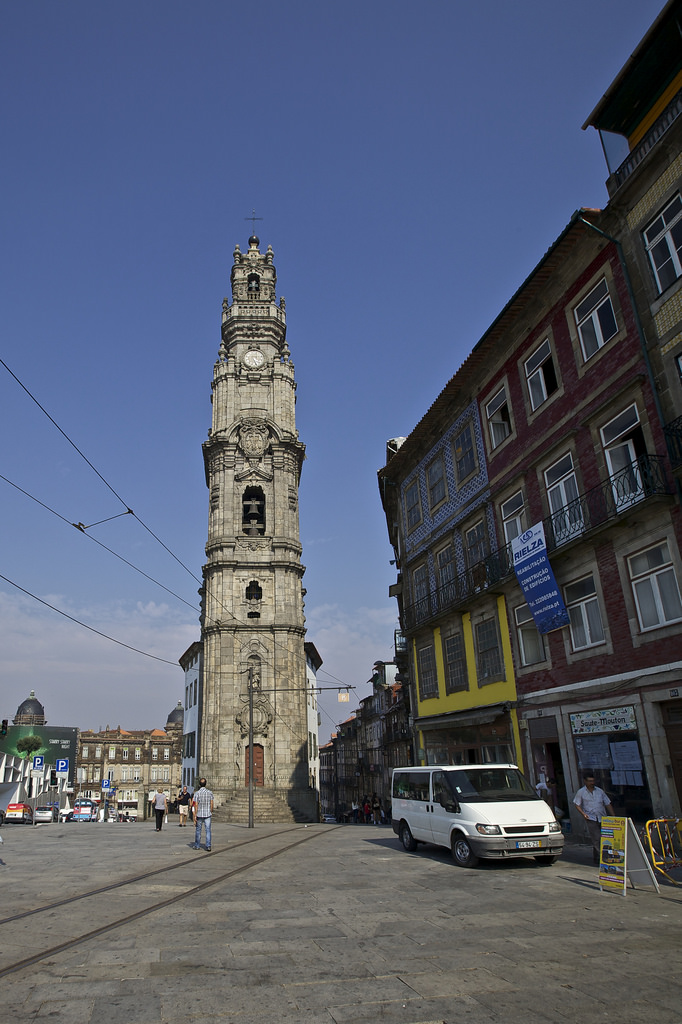clerigos: (196, 207, 322, 825)
